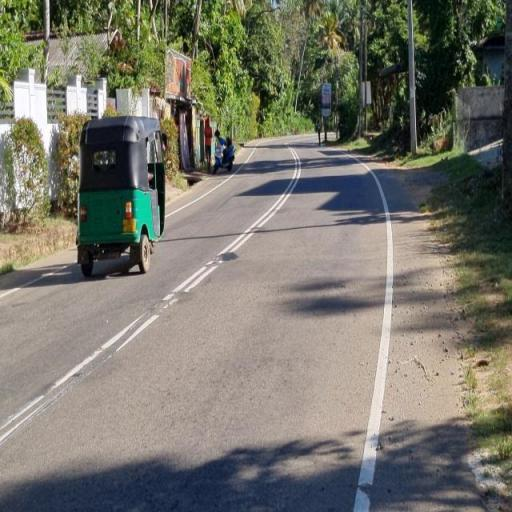double_white_line: (160, 149, 302, 312)
